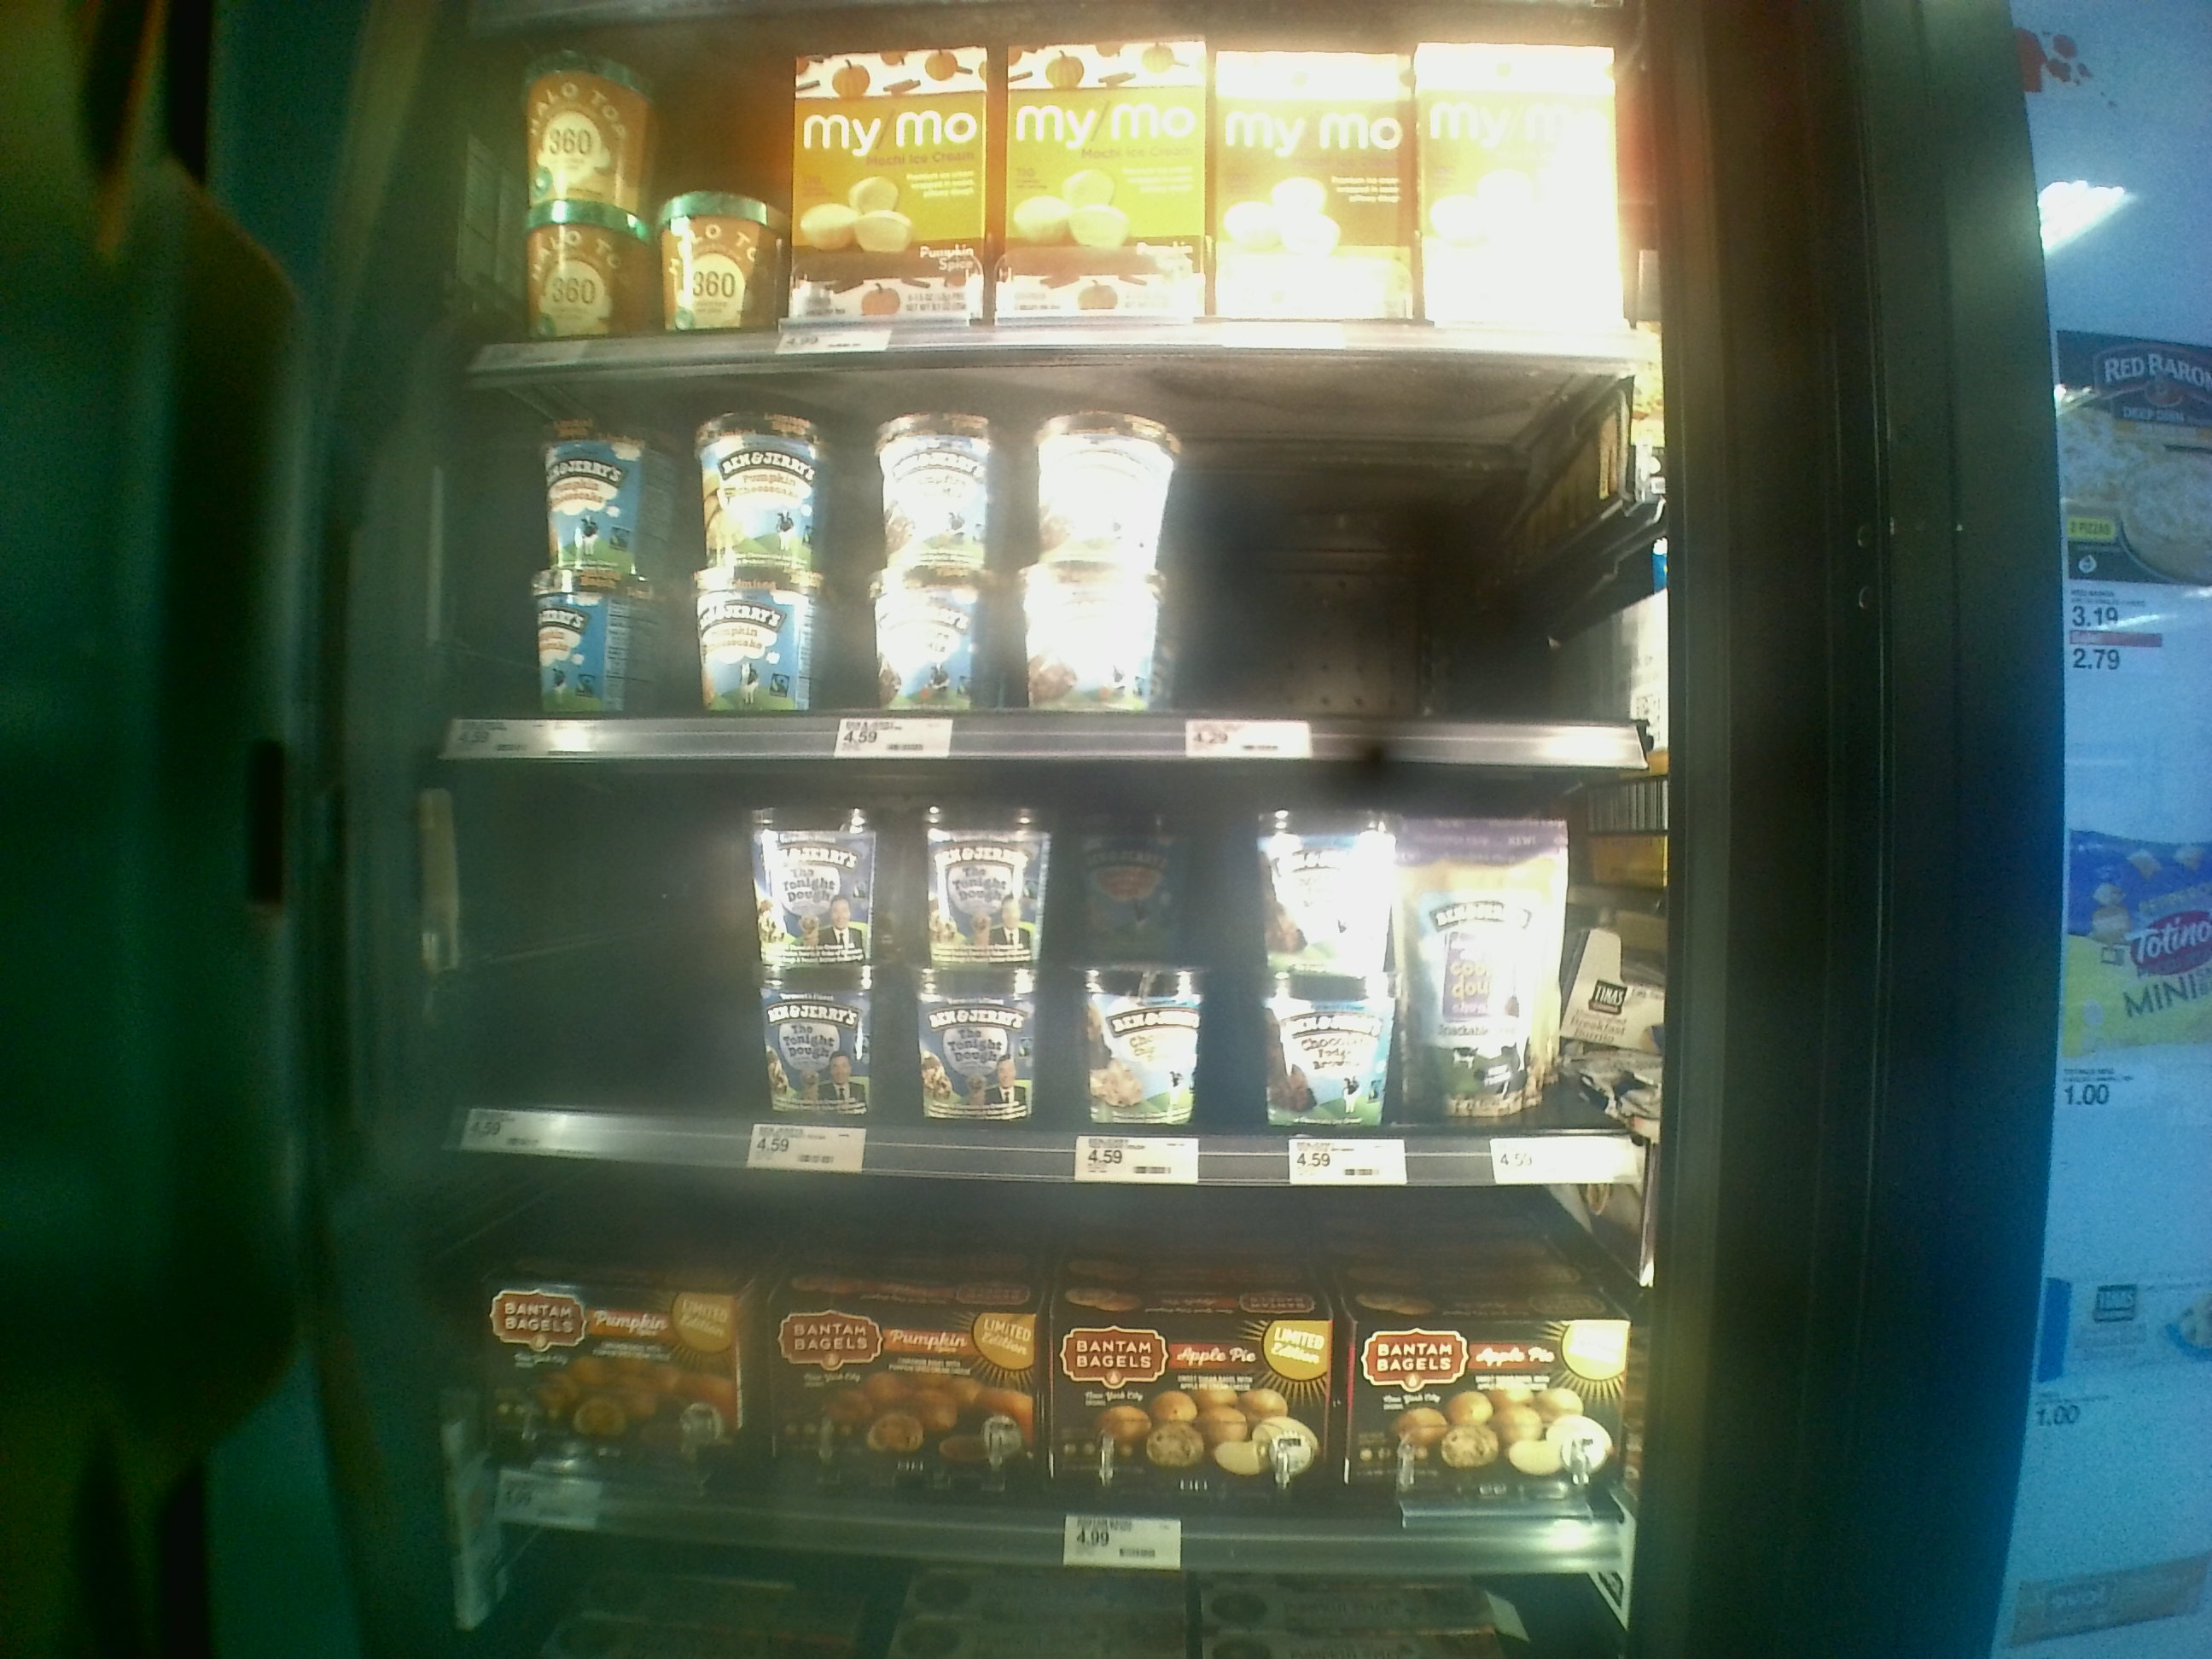shelf: (420, 742, 1669, 1185), (425, 1134, 1646, 1577), (435, 359, 1683, 784)
